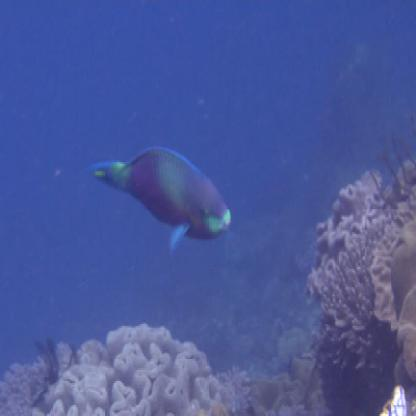parrot: (89, 137, 231, 259)
